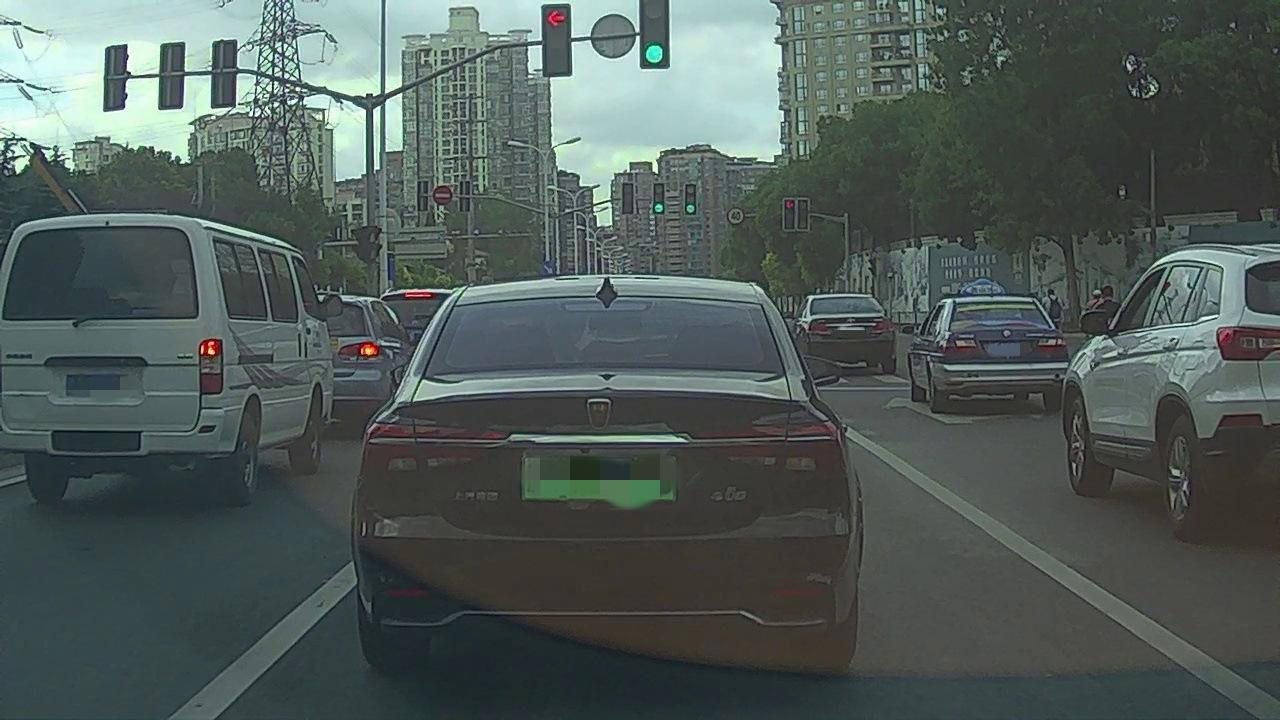traffic_light: (542, 5, 570, 76), (639, 1, 668, 69), (622, 183, 633, 214), (653, 183, 664, 214), (784, 199, 795, 230), (685, 185, 696, 215), (798, 199, 808, 231)
